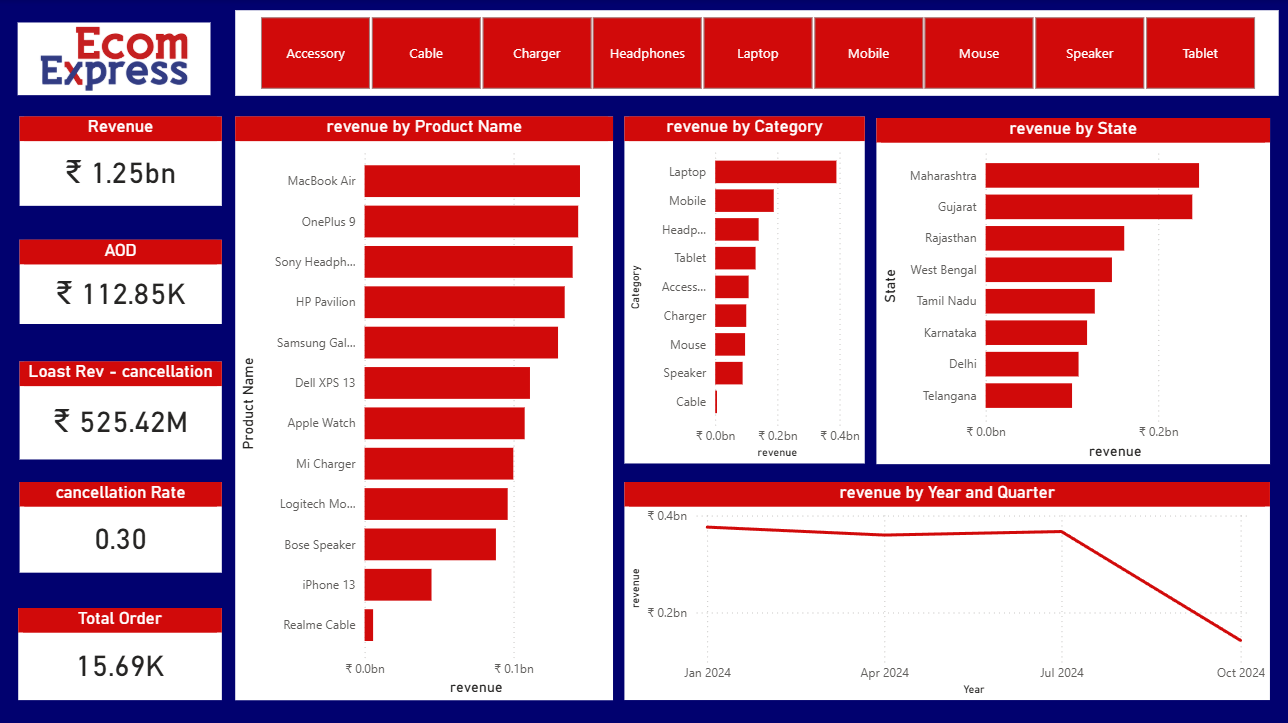

What the dashboard file says about the page in this screenshot:
{"tool":"powerbi","page":{"name":"Page 1","canvas":[1280,720],"ordinal":0},"visuals":[{"type":"shape","box":[0,0,1280.1,117.1],"z":0},{"type":"image","box":[12.8,9.9,201.4,99.3],"z":1000},{"type":"shape","box":[0,109.9,232.3,602.9],"z":2000},{"type":"clusteredBarChart","fields":{"Y":["Table.revenue"],"Category":["products.Product Name"]},"box":[233.4,116.7,375.2,579.4],"z":3000},{"type":"barChart","fields":{"Y":["Table.revenue"],"Category":["products.Category"]},"box":[619.6,117.1,238.5,344.4],"z":4000},{"type":"lineChart","fields":{"Category":["orders.Date and time of purchase.Variation.Date Hierarchy.Year","orders.Date and time of purchase.Variation.Date Hierarchy.Quarter","orders.Date and time of purchase.Variation.Date Hierarchy.Month","orders.Date and time of purchase.Variation.Date Hierarchy.Day"],"Y":["Table.revenue"]},"box":[619.7,479.4,640.6,216.8],"z":5000},{"type":"slicer","fields":{"Values":["products.Category"]},"box":[232.9,11.3,1035.9,84.7],"z":6000},{"type":"barChart","fields":{"Category":["customers.State"],"Y":["Table.revenue"]},"box":[869.9,118.1,390.5,343.2],"z":6001},{"type":"card","title":"Revenue","fields":{"Values":["Table.revenue"]},"box":[19.8,117.1,200.4,88.9],"z":6002},{"type":"card","title":"AOD","fields":{"Values":["Table.AOV"]},"box":[19.8,238.5,200.4,83.3],"z":6003},{"type":"card","title":"Loast Rev - cancellation","fields":{"Values":["Table.lost_rev_cancellation"]},"box":[19.8,359.9,200.4,97.4],"z":6004},{"type":"card","title":" cancellation Rate","fields":{"Values":["Table.cancellation rate"]},"box":[19.8,479.9,200.4,90.3],"z":6005},{"type":"card","title":"Total Order","fields":{"Values":["CountNonNull(orders.OrderID)"]},"box":[18.3,604.1,201.8,91.7],"z":6006}]}

Visuals, with their boxes in screenshot pixels (x1, y1, x2, y2), scaled from the page's 1280x720 canvas onto the 1288x723 screenshot:
shape: [0,0,1287,118]
image: [13,10,216,110]
shape: [0,110,234,716]
clusteredBarChart - Table.revenue x products.Product Name: [235,117,612,699]
barChart - Table.revenue x products.Category: [623,118,863,463]
lineChart - orders.Date and time of purchase.Variation.Date Hierarchy.Year x orders.Date and time of purchase.Variation.Date Hierarchy.Quarter: [624,481,1268,699]
slicer - products.Category: [234,11,1277,96]
barChart - customers.State x Table.revenue: [875,119,1268,463]
"Revenue" card: [20,118,222,207]
"AOD" card: [20,239,222,323]
"Loast Rev - cancellation" card: [20,361,222,459]
" cancellation Rate" card: [20,482,222,573]
"Total Order" card: [18,607,221,699]
